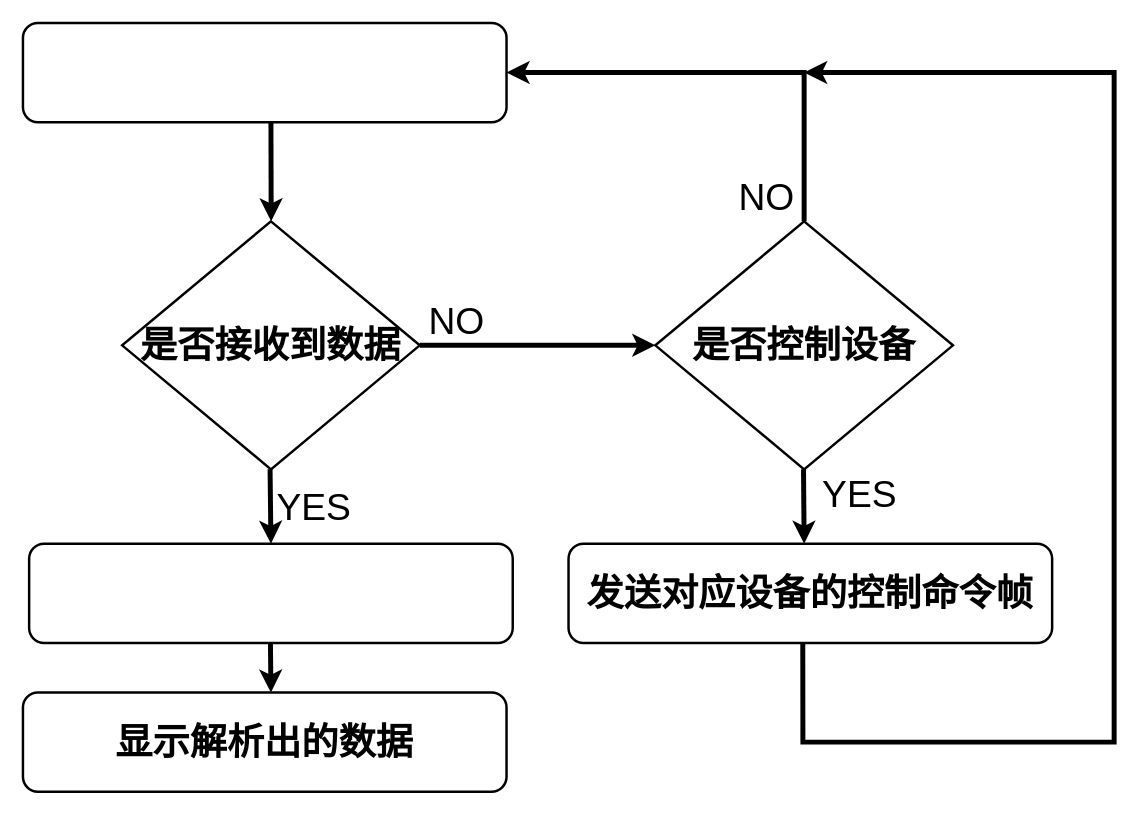
Some shapes in this 1147 by 813 pixel diagram are drawn without their labels. The centre of each missing label's shape, as x and y in pixels:
"数据显示和设备控制" goes at [264,72].
"解析数据帧" goes at [270,593].
